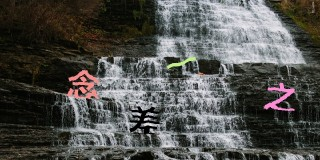一: (164, 55, 197, 69)
之: (262, 82, 296, 112)
差: (128, 105, 161, 135)
念: (65, 69, 101, 98)
